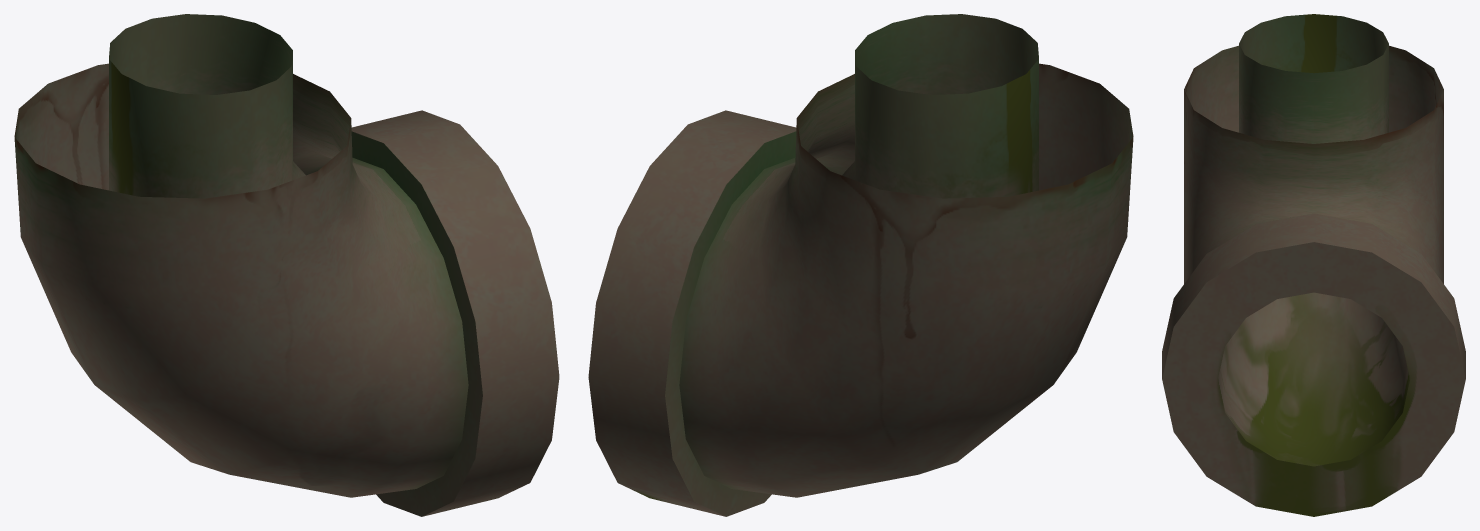
File: Pipe_corner.fbx
3 views of the same model, side by side, from view 1: azimuth 30°, elevation 25°; view 2: azimuth 150°, elevation 25°; view 3: azimuth 270°, elevation 25° (orthographic). The views are drawn at different scales.
Parts seen in each view (by area): view 1: Pipe_corner; view 2: Pipe_corner; view 3: Pipe_corner.
Part boxes in pixels (<box>): Pipe_corner: <box>14,14,559,516</box>; Pipe_corner: <box>588,14,1133,516</box>; Pipe_corner: <box>1162,14,1465,516</box>.
Bounding box in the file's own units: 0.2604 × 0.289 × 0.2112.
